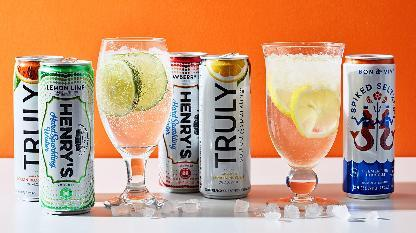Can: (38, 57, 96, 215), (342, 53, 398, 201), (199, 53, 252, 200), (157, 54, 205, 194), (13, 57, 56, 203)
